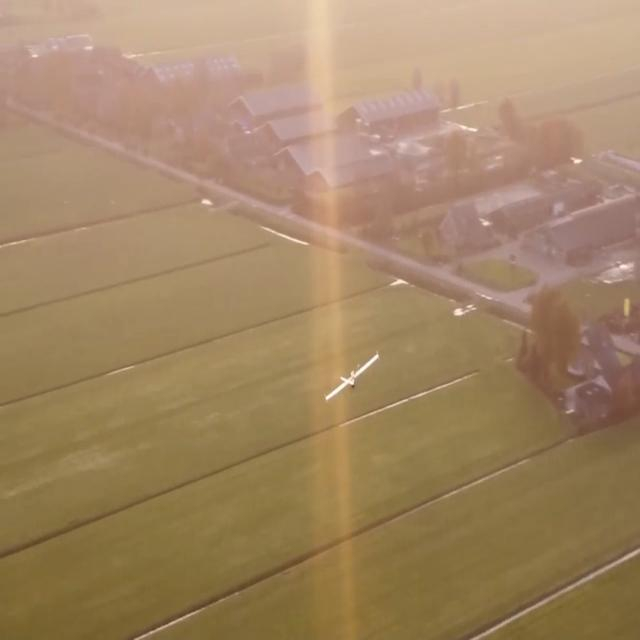iha: (324, 348, 378, 404)
